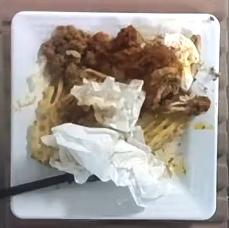beef: (38, 25, 90, 92)
fries: (29, 85, 59, 163), (141, 114, 177, 151)
unknown: (82, 25, 146, 81)
